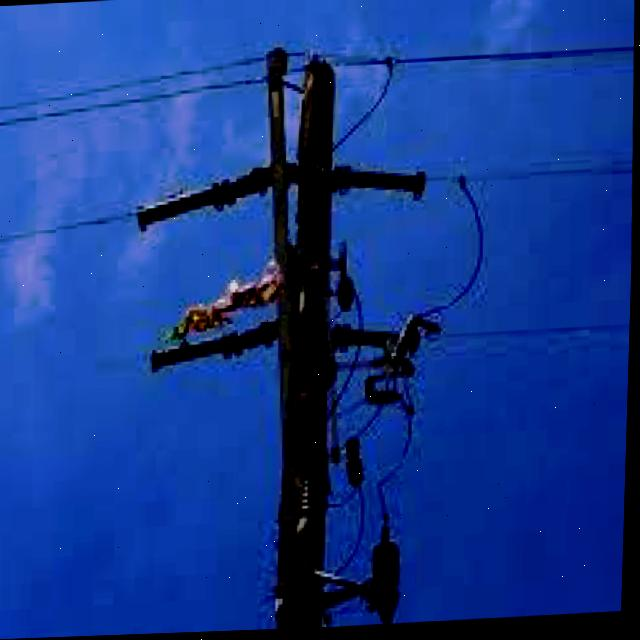obstruction: (180, 260, 283, 337)
poles: (142, 49, 442, 627), (351, 439, 364, 486)
wires: (427, 162, 633, 322), (338, 48, 634, 79), (434, 326, 632, 344), (380, 421, 416, 492), (346, 95, 387, 141), (346, 549, 361, 566), (361, 530, 367, 546)
